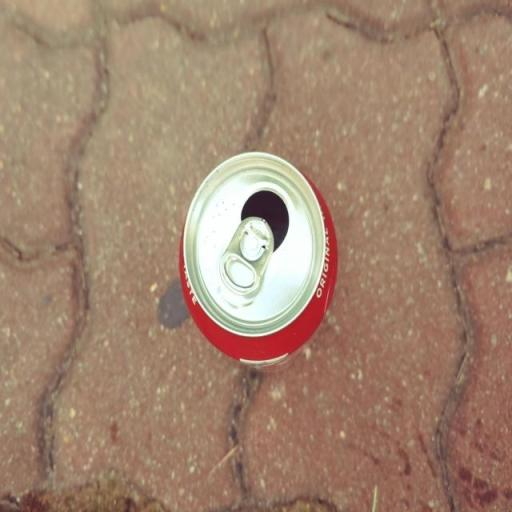metal: (142, 128, 374, 430)
